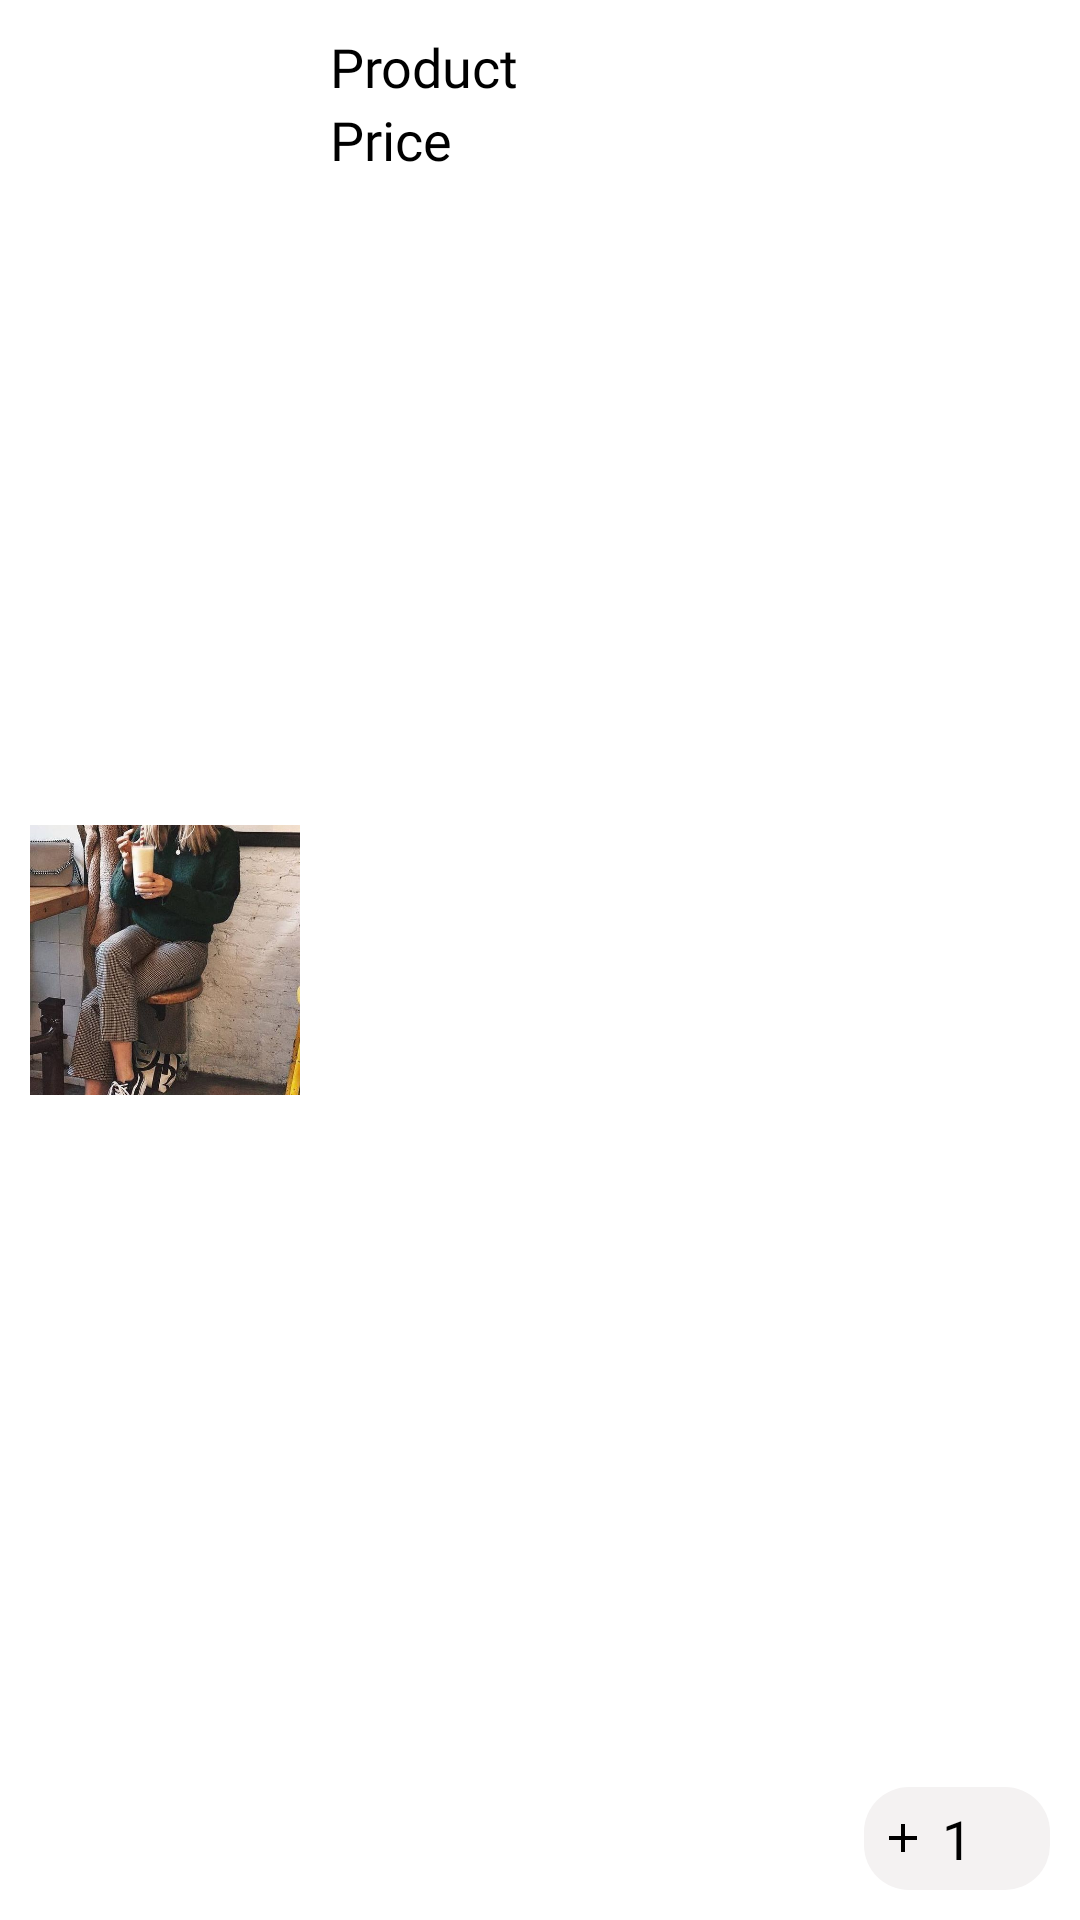

Screen size 1080*1920. Icon name, then its box in pixels as box=[x1, y1, x2, y2]:
add: box=[889, 1824, 917, 1852]
